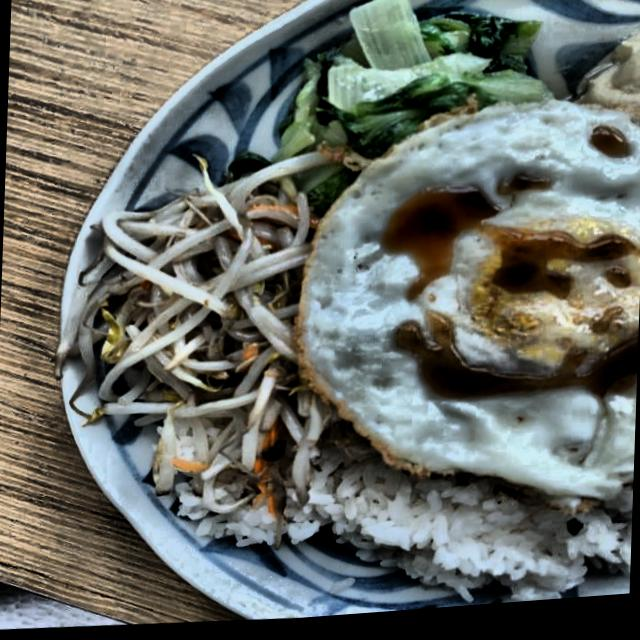Food: (299, 95, 640, 533), (103, 198, 305, 418), (350, 483, 566, 589)
